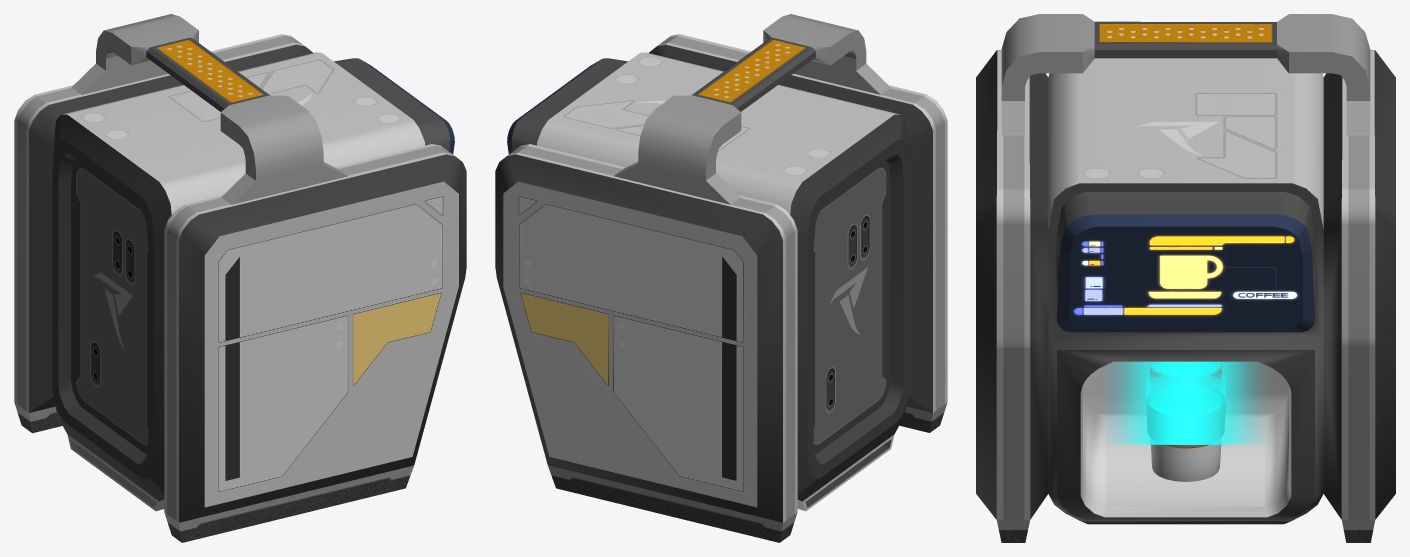
File: replicateur-a-cafe.glb
The picture shows the model from 3 angles, left to right: view 1: azimuth 30°, elevation 25°; view 2: azimuth 150°, elevation 25°; view 3: azimuth 270°, elevation 25°; orthographic projection. The views are drawn at different scales.
Parts seen in each view (by area): view 1: Body, Shiny_Stuff; view 2: Body, Shiny_Stuff; view 3: Body, Shiny_Stuff, pPlane2, pPlane1, polySurface1, polySurface2.
Boxes of the visible parts, bbox=[...] form: Body: bbox=[14, 14, 466, 542]; Shiny_Stuff: bbox=[14, 34, 458, 522]; Body: bbox=[495, 14, 947, 542]; Shiny_Stuff: bbox=[503, 34, 947, 522]; Body: bbox=[976, 14, 1395, 542]; Shiny_Stuff: bbox=[996, 21, 1375, 519]; pPlane2: bbox=[1124, 361, 1247, 444]; pPlane1: bbox=[1122, 362, 1249, 444]; polySurface1: bbox=[1146, 362, 1225, 411]; polySurface2: bbox=[1146, 393, 1225, 481].
Size of the model in its own units: 0.0178 by 0.0211 by 0.018.
4 materials, 4 textured.
